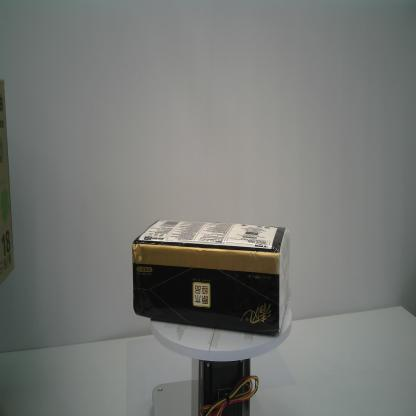Tissue: (131, 218, 291, 336)
